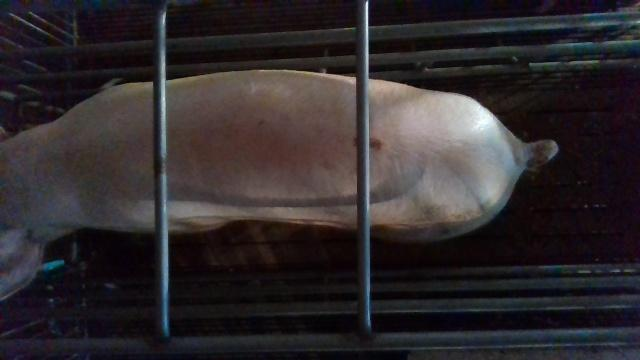sow-stand-feed: (1, 64, 560, 300)
